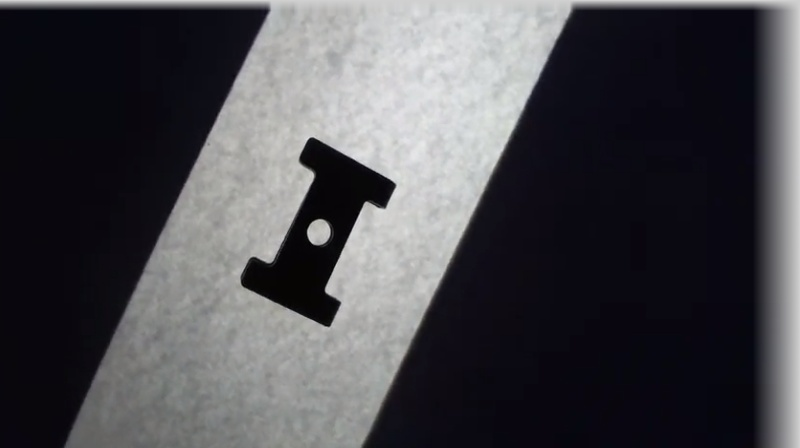O002: (235, 133, 400, 328)
